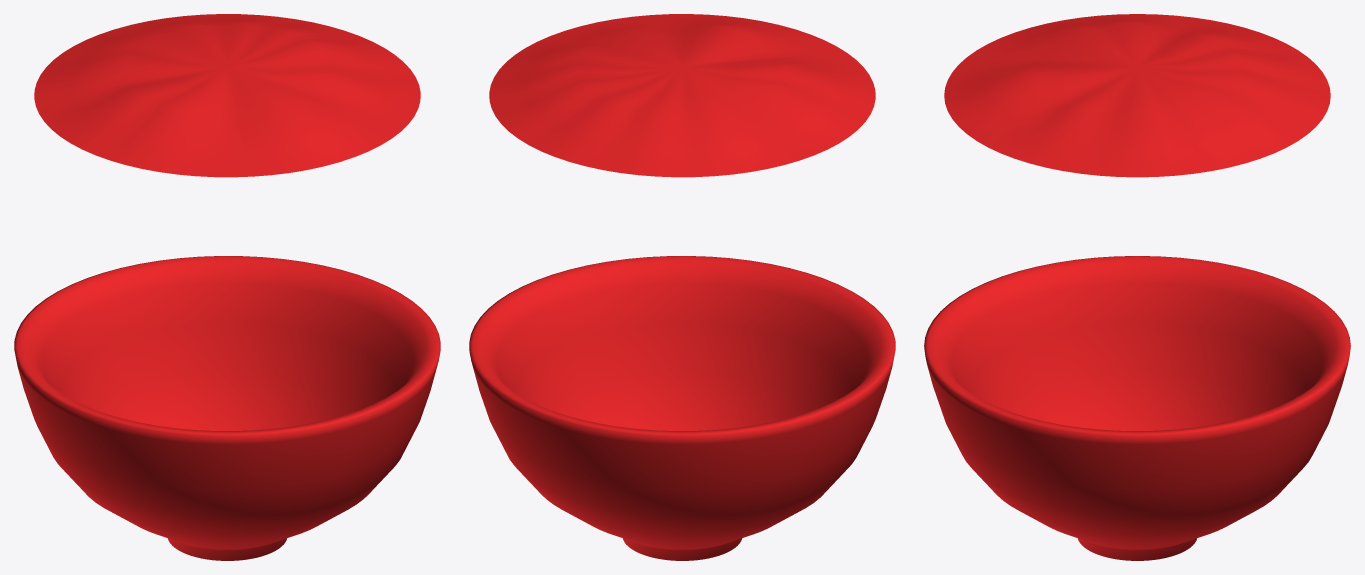
The model's file is ICE DISH.fbx.
The picture shows the model from 3 angles, left to right: view 1: azimuth 30°, elevation 25°; view 2: azimuth 150°, elevation 25°; view 3: azimuth 270°, elevation 25°; orthographic projection.
Parts seen in each view (by area): view 1: DISH, ICE DISH; view 2: DISH, ICE DISH; view 3: DISH, ICE DISH.
Part boxes in pixels (x1,y1,x2,y2): DISH: (14,256,440,560); ICE DISH: (34,14,420,177); DISH: (469,256,895,560); ICE DISH: (489,14,875,177); DISH: (924,256,1350,560); ICE DISH: (944,14,1330,177).
Size of the model in its own units: 17.18 by 20.84 by 17.18.
